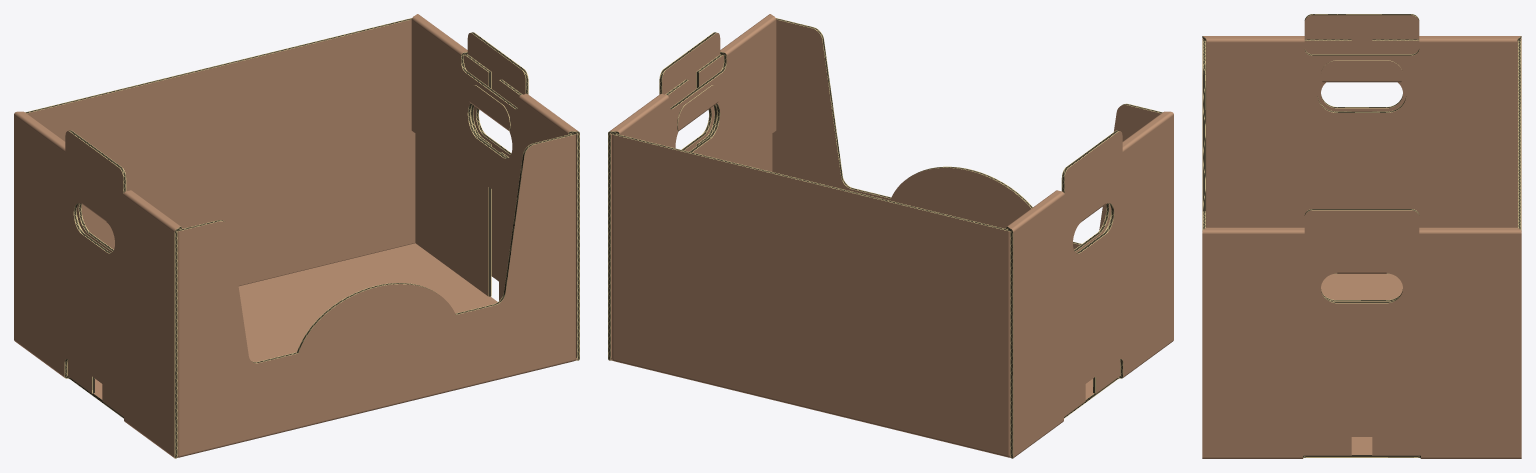
Rendered from Single_sided_tray.glb.
3 views of the same model, side by side, from view 1: azimuth 30°, elevation 25°; view 2: azimuth 150°, elevation 25°; view 3: azimuth 270°, elevation 25° (orthographic).
Visible parts, largest first — view 1: Charola_Vista_1_Panel_ARD-node; view 2: Charola_Vista_1_Panel_ARD-node; view 3: Charola_Vista_1_Panel_ARD-node.
Part boxes in pixels (x1=…): Charola_Vista_1_Panel_ARD-node: x1=14, y1=14, x2=579, y2=458; Charola_Vista_1_Panel_ARD-node: x1=608, y1=14, x2=1173, y2=458; Charola_Vista_1_Panel_ARD-node: x1=1202, y1=14, x2=1521, y2=458.
Bounding box in the file's own units: 0.5664 × 0.3357 × 0.389.
3 materials, 3 textured.
